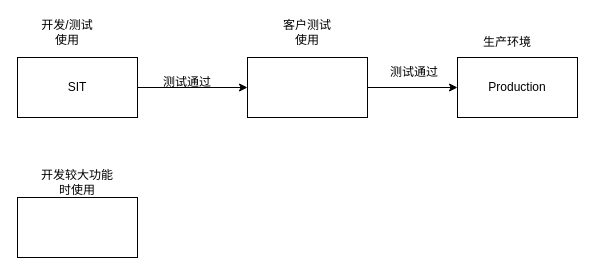
Some shapes in this 595 by 275 pixel diagram are drawn without their labels. The shapes that lost their labels are listed below. From the top down, each one's centre as x and y in pixels, then its label:
point (307, 87): UAT
point (77, 227): FVT
